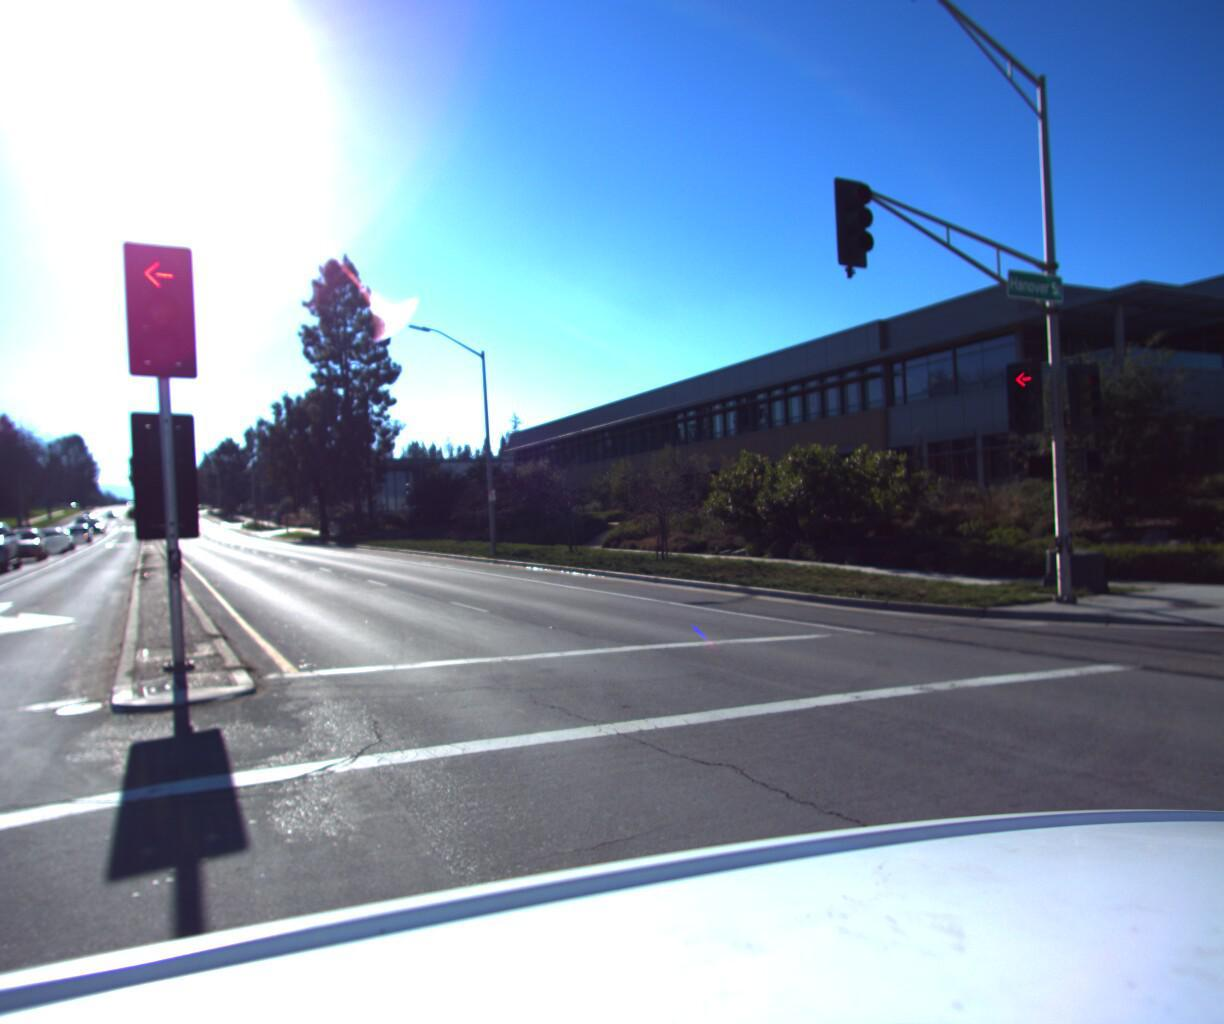car: (0, 514, 55, 557), (0, 514, 30, 571), (30, 518, 72, 548)
